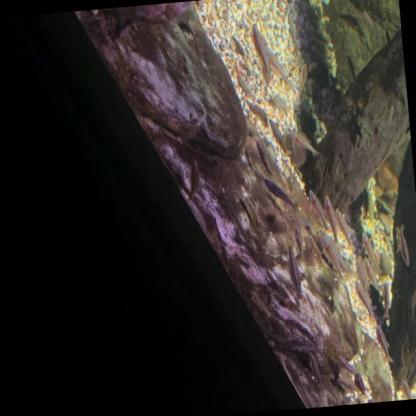fish: (316, 232, 352, 282), (249, 21, 275, 86), (263, 37, 292, 92), (260, 174, 296, 215), (282, 244, 304, 298), (321, 193, 340, 247), (305, 187, 328, 231), (289, 128, 319, 158), (335, 207, 355, 251), (353, 277, 375, 316), (268, 117, 290, 155), (184, 159, 203, 200), (374, 325, 394, 363), (393, 223, 410, 266), (360, 230, 378, 270), (253, 139, 272, 176), (306, 348, 324, 386), (362, 255, 380, 291), (246, 98, 268, 126), (291, 224, 306, 260), (378, 282, 392, 319), (337, 354, 357, 378), (354, 255, 368, 288), (352, 370, 368, 396), (230, 34, 245, 58), (298, 63, 309, 88), (400, 379, 413, 399), (363, 9, 373, 28)
